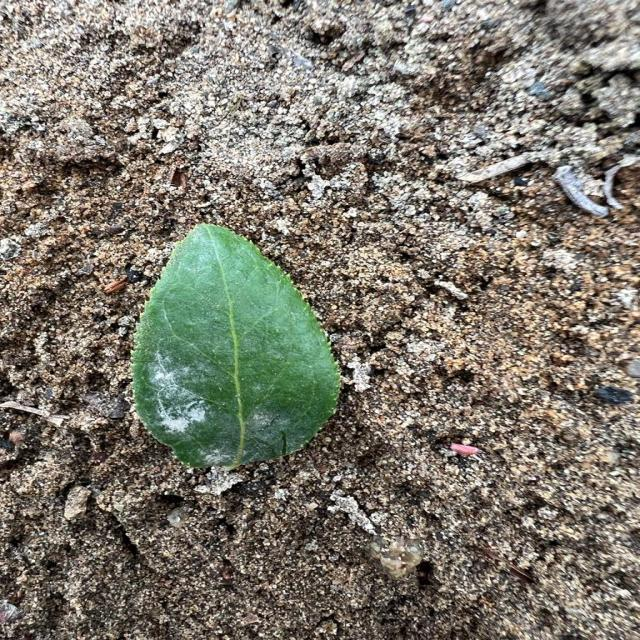Hojas con oidiosis: (145, 319, 317, 483)
